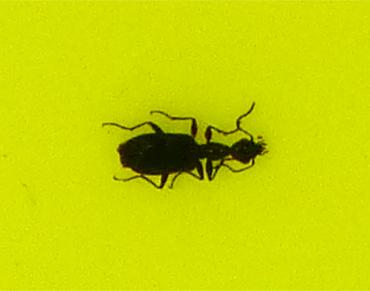Coleoptera: (100, 100, 270, 191)
